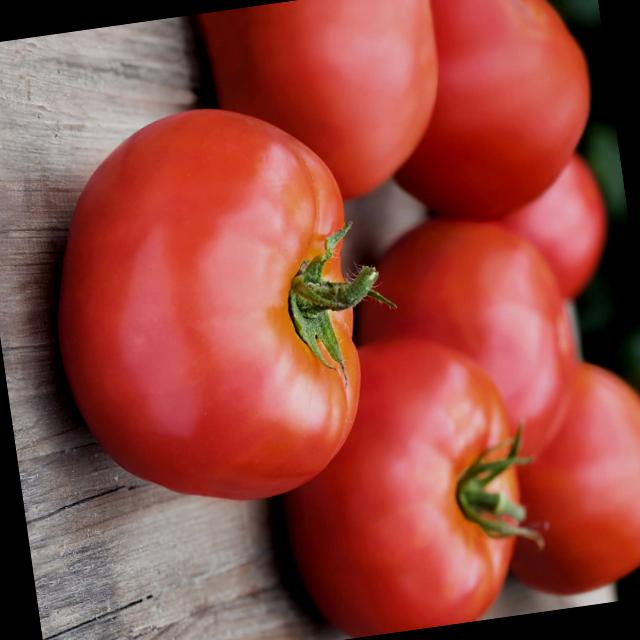tomato: (24, 84, 395, 524), (250, 334, 537, 640), (351, 211, 599, 472), (372, 0, 614, 230)
